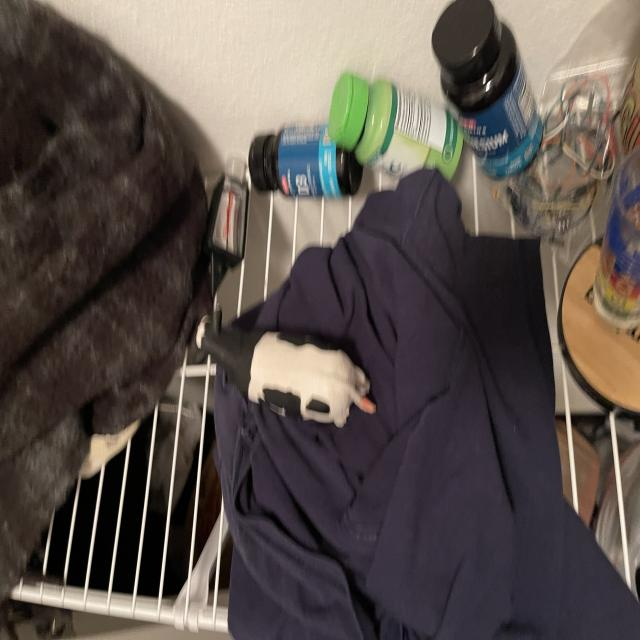cow: (185, 314, 386, 433)
